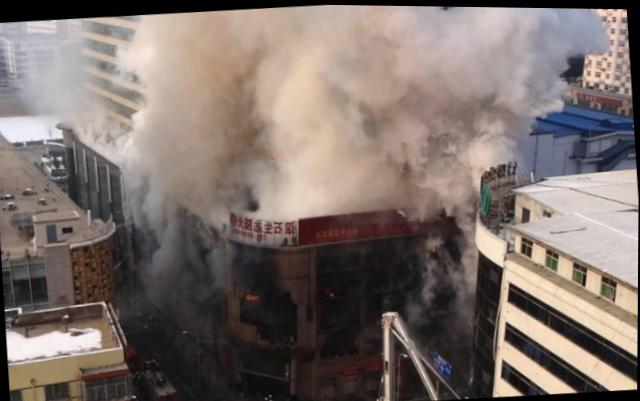smoke: (117, 117, 477, 229), (113, 1, 542, 91), (128, 60, 501, 143), (422, 208, 488, 323), (141, 217, 225, 304), (542, 6, 619, 59), (502, 59, 567, 116), (472, 116, 535, 170)
